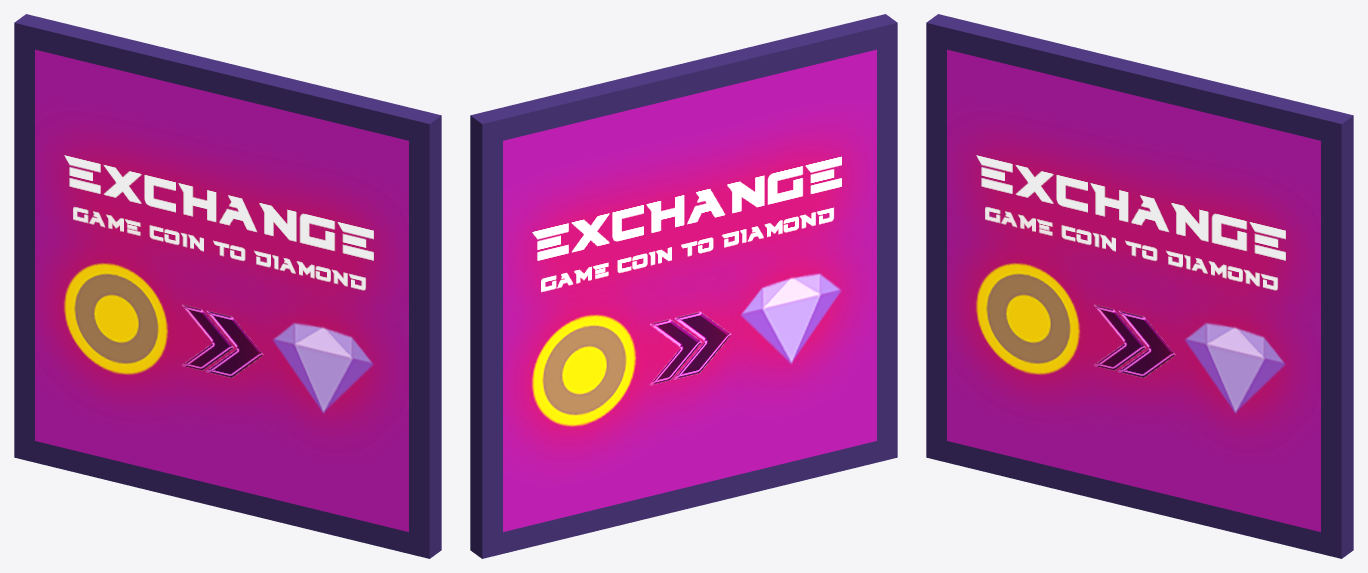
Rendered from CoinsToDiamonds.glb.
3 views of the same model, side by side, from view 1: azimuth 90°, elevation 25°; view 2: azimuth 150°, elevation 25°; view 3: azimuth 270°, elevation 25° (orthographic).
Parts seen in each view (by area): view 1: CoinstoDiamonds; view 2: CoinstoDiamonds; view 3: CoinstoDiamonds.
Part boxes in pixels (x1,y1,x2,y2): CoinstoDiamonds: (14,14,441,558); CoinstoDiamonds: (470,14,897,558); CoinstoDiamonds: (926,14,1353,558).
Size of what is drawn, in the model's own units: 1.51 by 2.78 by 2.48.
Materials: 2 (2 with a texture image).
